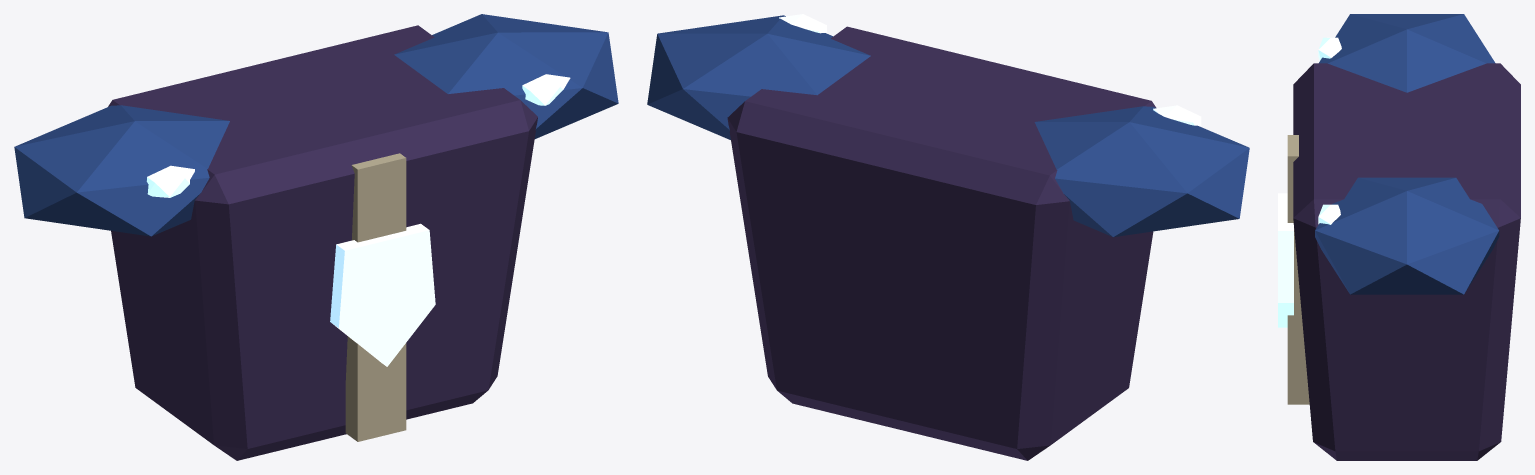
Rendered from mooncap_mantle.glb.
3 renders of one model, left to right at view 1: azimuth 30°, elevation 25°; view 2: azimuth 150°, elevation 25°; view 3: azimuth 270°, elevation 25°, orthographic. The views are drawn at different scales.
Visible parts, largest first — view 1: mooncap_mantle; view 2: mooncap_mantle; view 3: mooncap_mantle.
Boxes of the visible parts, x1,y1,x2,y2 form: mooncap_mantle: (14, 14, 618, 460); mooncap_mantle: (647, 14, 1249, 460); mooncap_mantle: (1278, 14, 1520, 460).
Bounding box in the file's own units: 0.9649 × 0.5165 × 0.3811.
